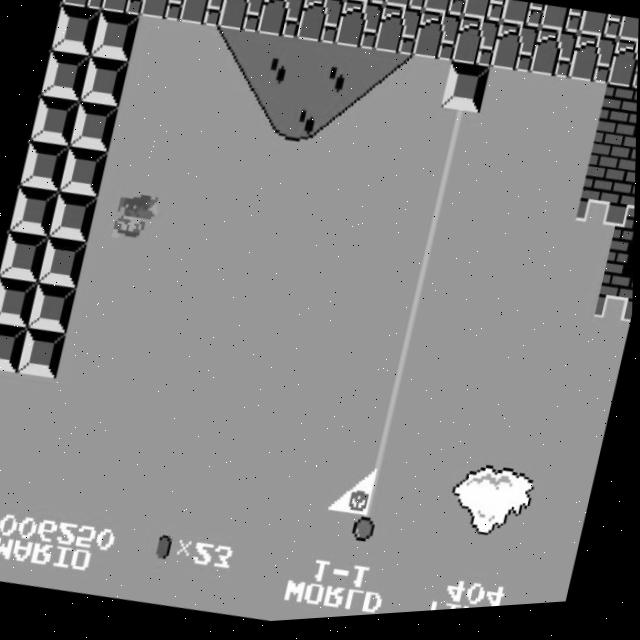11- little_mario: (109, 191, 162, 251)
17- undestructible_block: (411, 13, 462, 70), (528, 32, 579, 89), (334, 1, 385, 57), (451, 20, 502, 76), (490, 26, 541, 82), (567, 39, 618, 95), (373, 7, 423, 63), (295, 0, 346, 51), (255, 0, 306, 45), (216, 0, 267, 39), (607, 45, 639, 101), (177, 0, 228, 32), (578, 16, 624, 50), (500, 4, 545, 37), (539, 10, 584, 43), (461, 0, 507, 31), (138, 0, 189, 26), (422, 0, 468, 24), (100, 0, 150, 20), (383, 0, 428, 18), (616, 23, 639, 56), (61, 0, 111, 13), (343, 0, 389, 12), (305, 0, 350, 6)
7- goal_pole: (338, 517, 389, 574), (347, 472, 398, 529), (379, 336, 430, 393), (389, 291, 440, 348), (430, 110, 481, 167), (410, 201, 461, 257), (359, 427, 409, 483), (420, 156, 470, 212), (399, 247, 449, 302), (369, 382, 418, 438)
9- hard_block: (40, 47, 91, 104), (50, 2, 101, 59), (58, 144, 109, 201), (440, 65, 491, 122), (20, 138, 71, 194), (28, 280, 79, 336), (38, 235, 89, 291), (79, 54, 130, 110), (89, 9, 140, 65), (0, 228, 50, 285), (30, 93, 80, 149), (49, 190, 99, 246), (10, 184, 60, 239), (18, 326, 68, 381), (69, 100, 119, 155), (0, 273, 39, 329), (0, 319, 28, 374), (18, 140, 31, 186), (7, 186, 20, 231), (39, 50, 51, 95), (49, 5, 61, 50), (29, 96, 40, 140), (0, 231, 9, 276)
